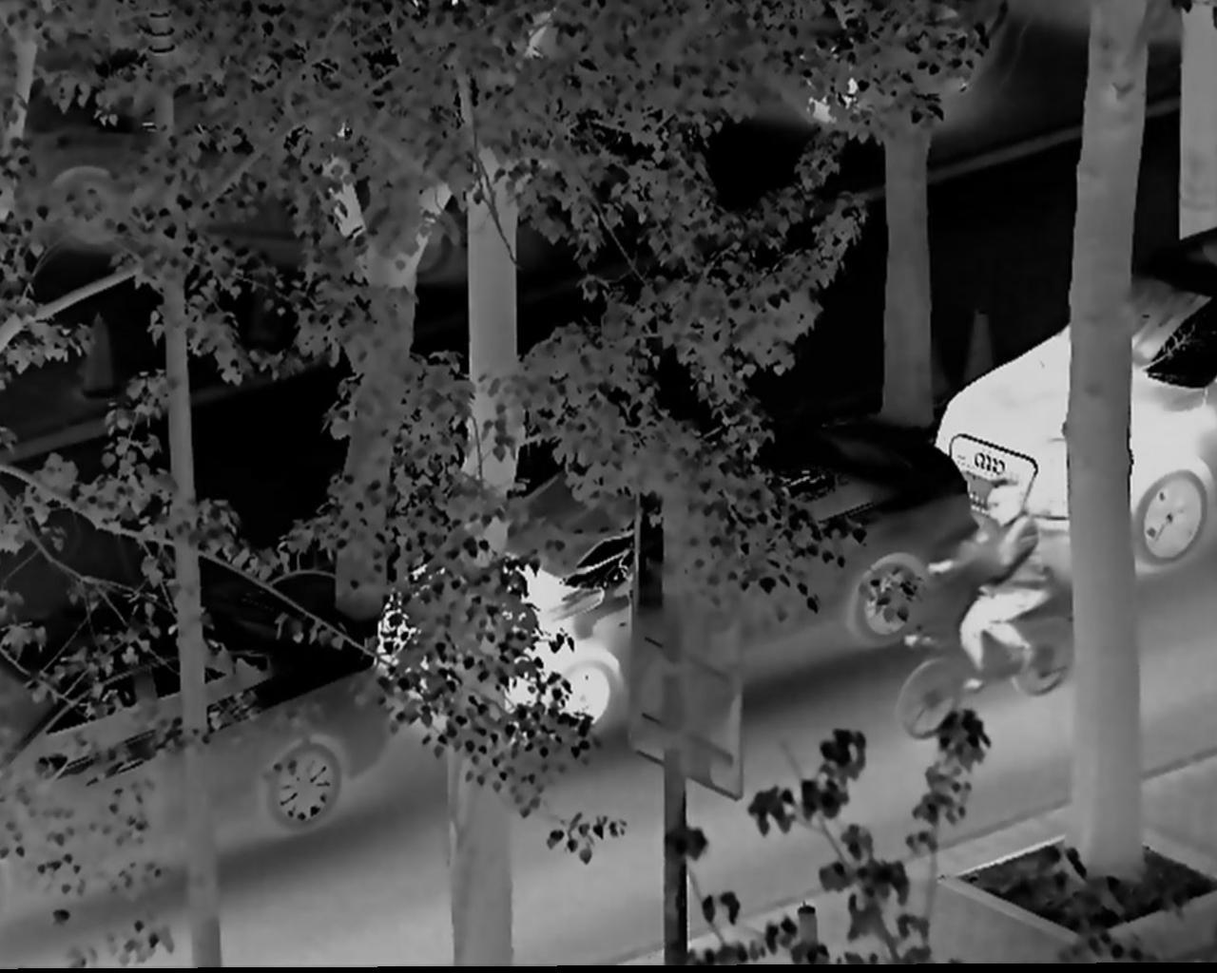person: (937, 473, 1054, 706)
